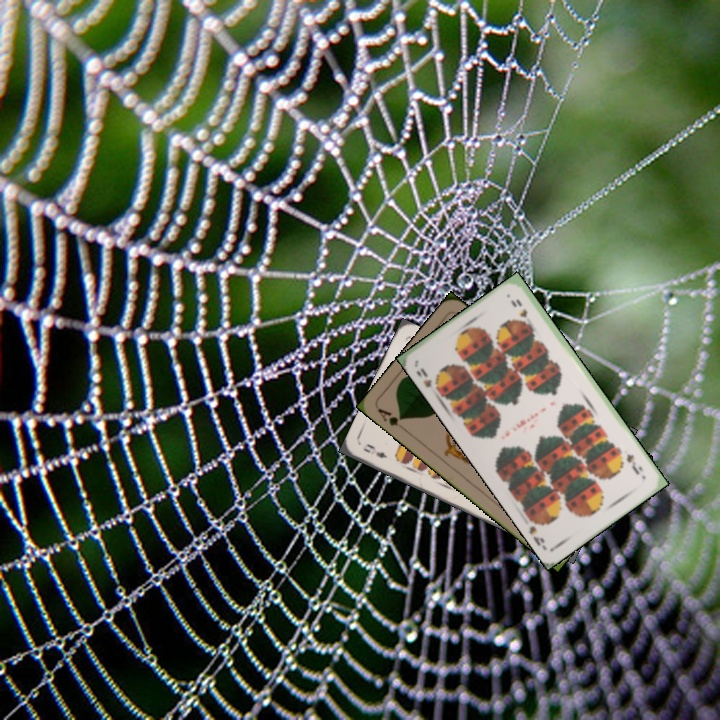E9: (359, 440, 390, 461)
GA: (374, 404, 409, 434)
S9: (416, 364, 444, 395), (622, 450, 646, 478)
